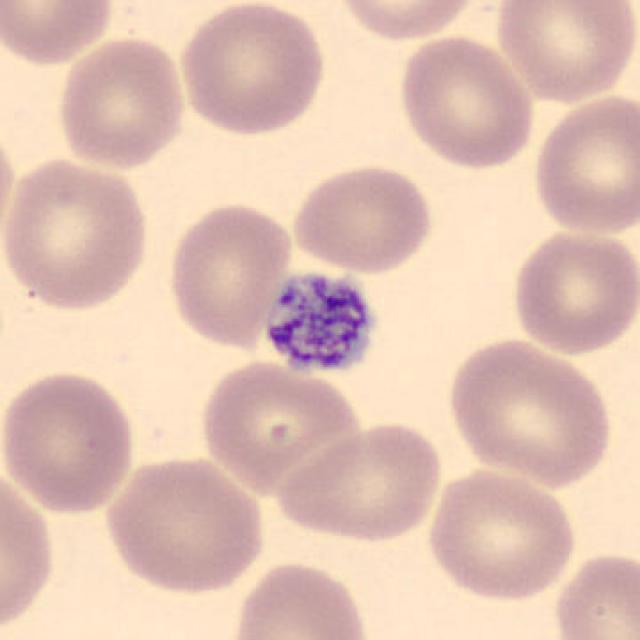Platelets: (260, 266, 380, 381)
RBC: (439, 335, 619, 488), (0, 153, 155, 314), (98, 451, 268, 596), (194, 356, 366, 492), (422, 465, 582, 605), (272, 418, 448, 545), (174, 0, 331, 138), (0, 365, 140, 516), (162, 198, 295, 352), (394, 32, 538, 171), (54, 34, 190, 171), (286, 159, 438, 275), (507, 226, 638, 358), (528, 92, 638, 238), (492, 0, 638, 104), (226, 557, 375, 640), (0, 462, 59, 638), (549, 546, 638, 640), (0, 0, 117, 69), (329, 0, 485, 44), (0, 118, 20, 254)
